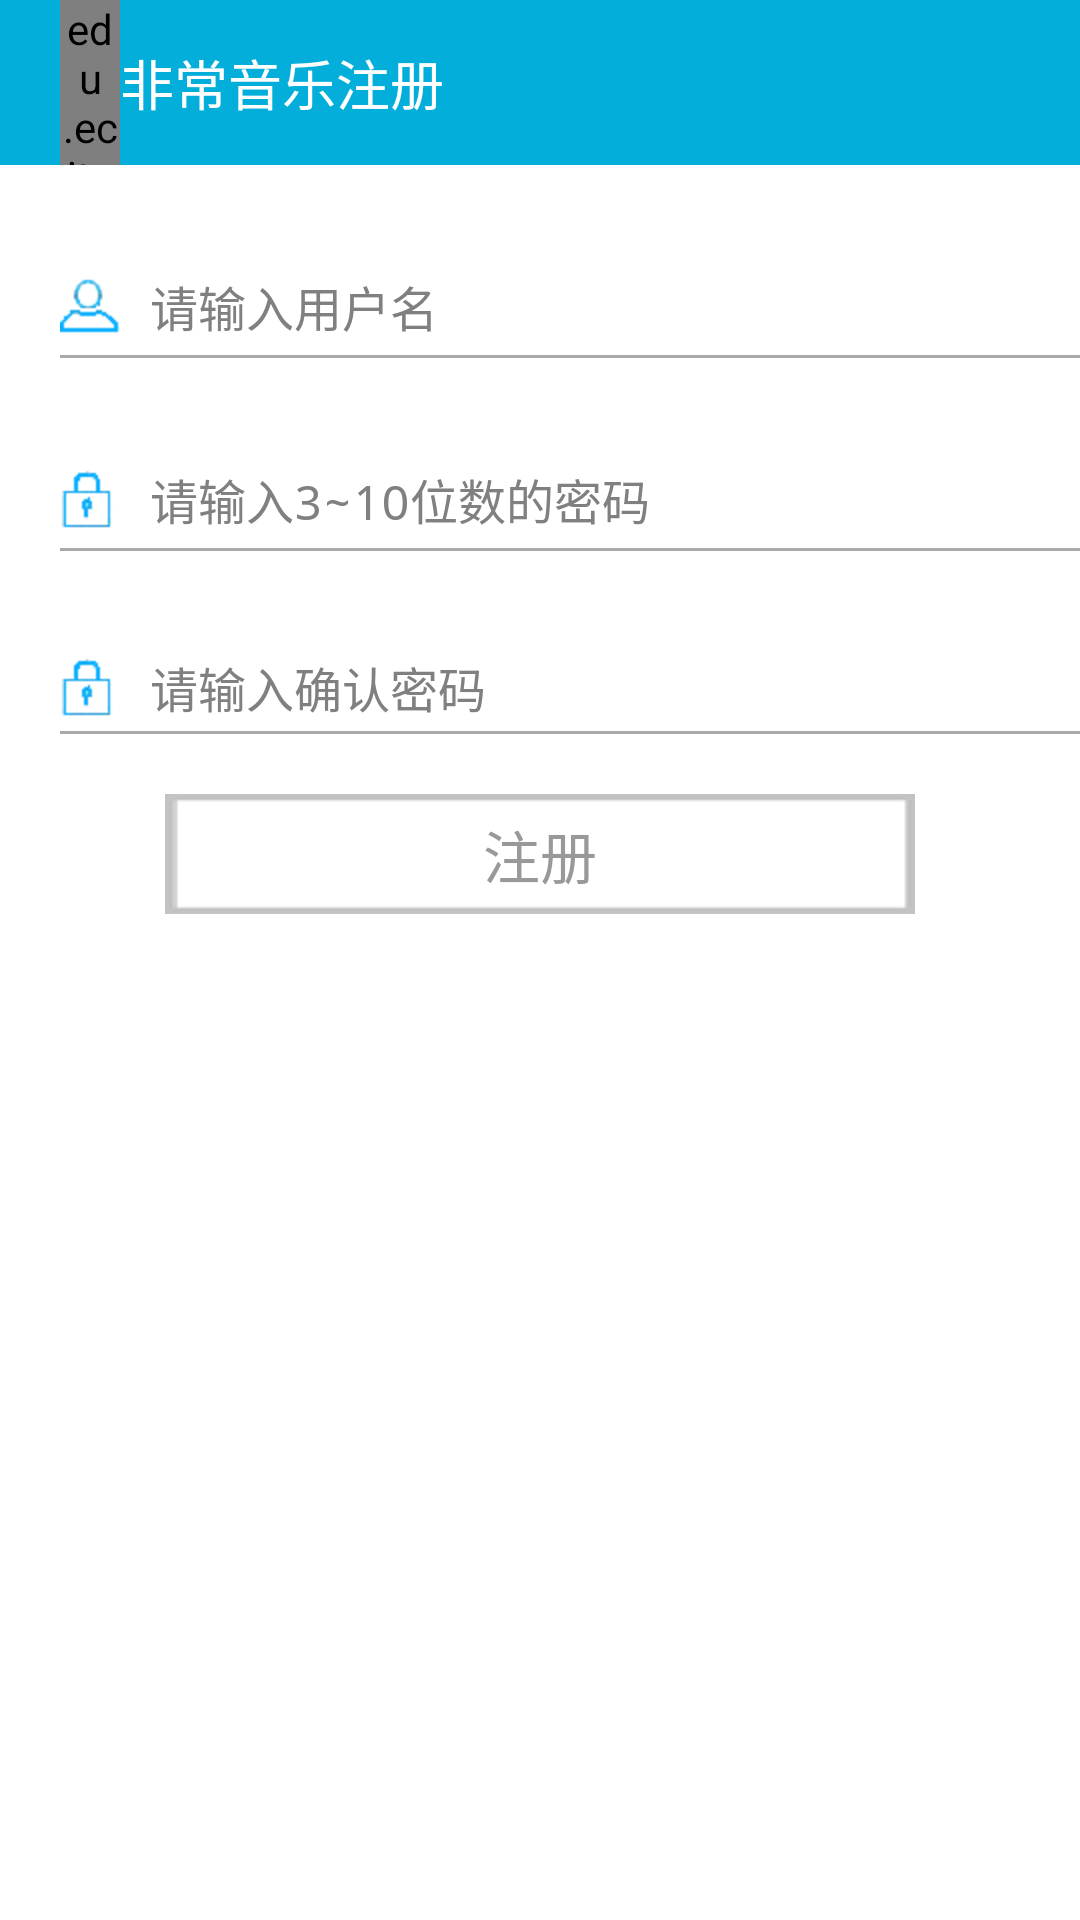

Icon bounding boxes for this 1080w x 1920h phone screenshot, format box(x1, y1, x2, y2):
login password: box(62, 471, 111, 528), box(62, 659, 111, 716)
login username: box(60, 279, 120, 333)
